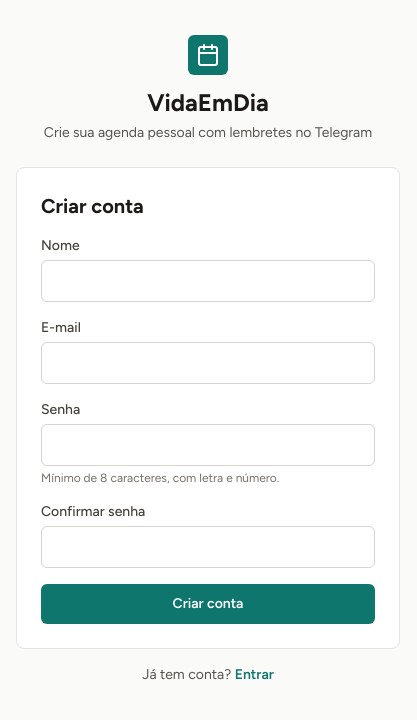
Criar Conta › senha "abcdefgh" mostra a mensagem da regra de senha
Type "Novo Usuário" into the field labelled "Nome".
click(208, 281); type("Novo Usuário")  # box [41,260,375,302]
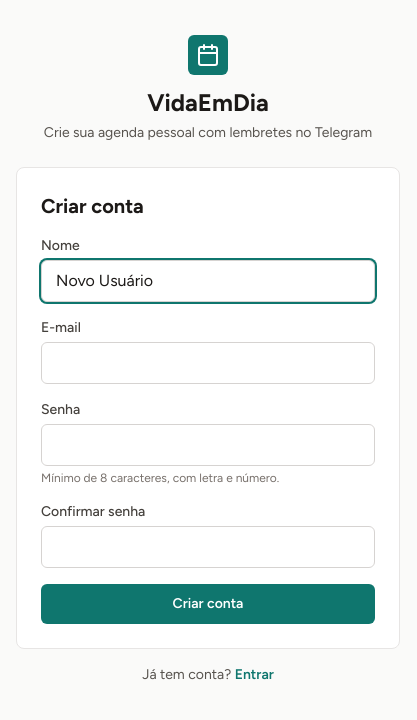
Type "novo@vidaemdia.com.br" into the field labelled "E-mail".
click(208, 363); type("novo@vidaemdia.com.br")  # box [41,342,375,384]
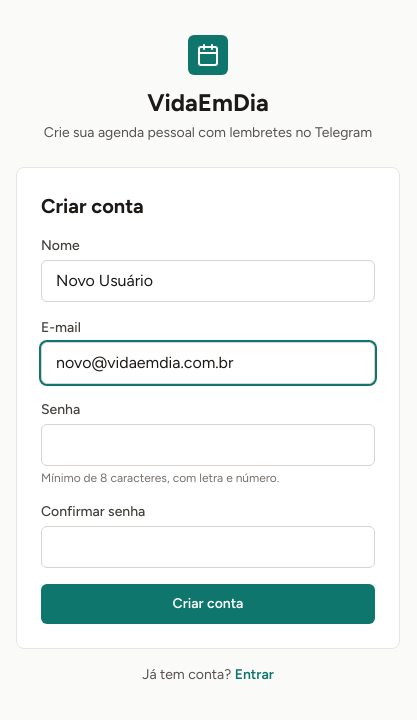
Type "abcdefgh" into the password field labelled "Senha".
click(208, 445); type("abcdefgh")  # box [41,424,375,466]
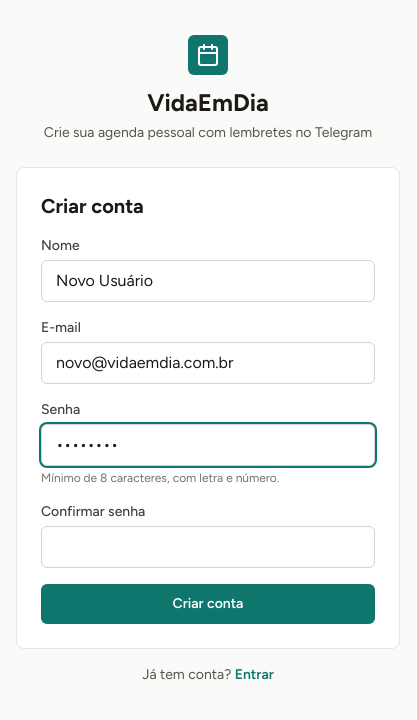
Type "abcdefgh" into the password field labelled "Confirmar senha".
click(208, 547); type("abcdefgh")  # box [41,526,375,568]
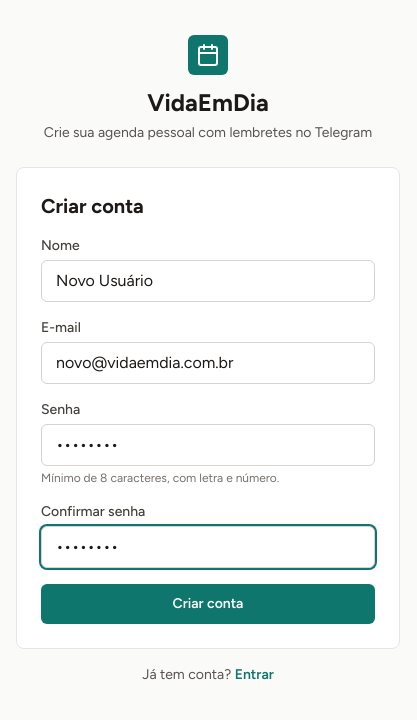
Click the button "Criar conta".
click(208, 604)  # box [41,584,375,624]
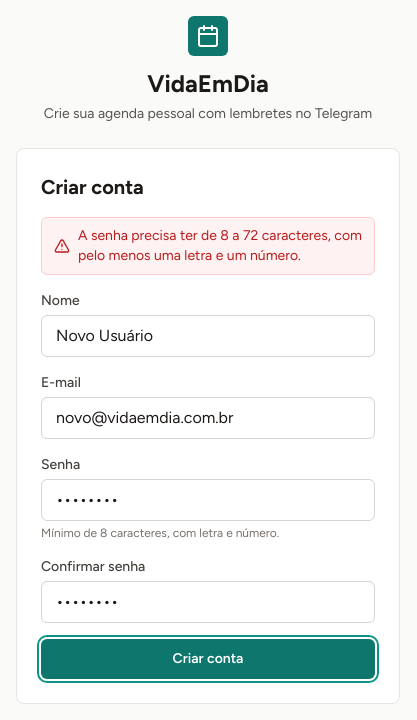
Expected: the text "A senha precisa ter de 8 a 72 caracteres, com pelo menos uma letra e um número." is shown, [78,226,362,266]
